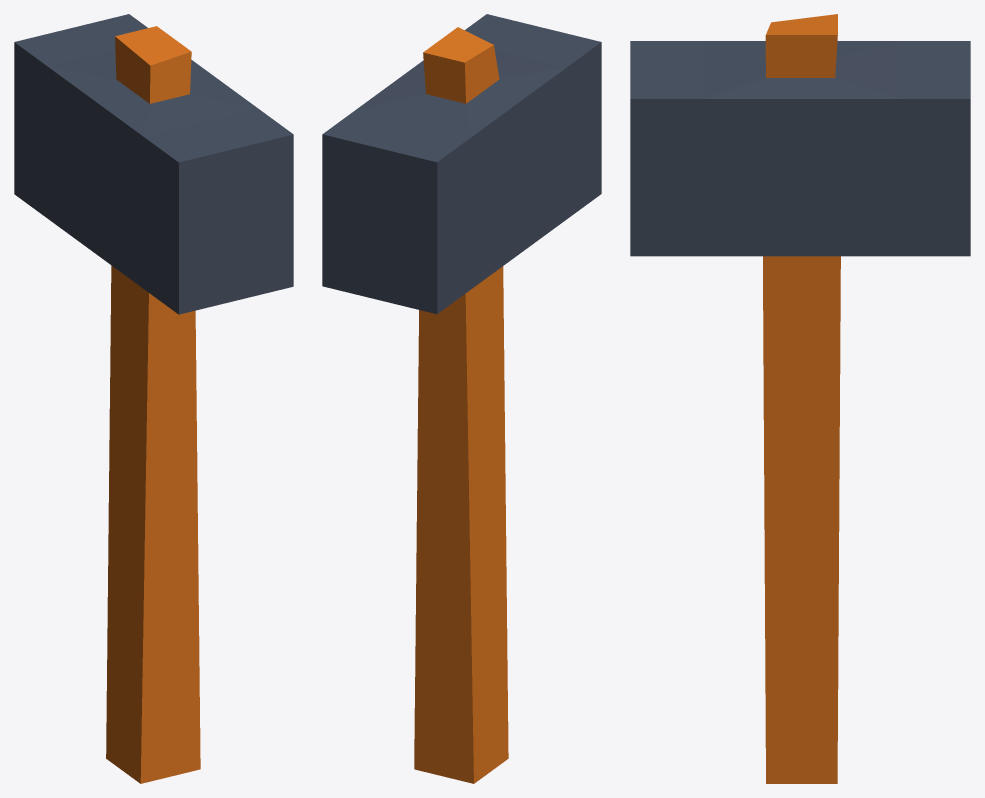
File: smith_hammer.fbx
3 renders of one model, left to right at view 1: azimuth 30°, elevation 25°; view 2: azimuth 150°, elevation 25°; view 3: azimuth 270°, elevation 25°, orthographic. The views are drawn at different scales.
Visible parts, largest first — view 1: Hummer; view 2: Hummer; view 3: Hummer.
Part boxes in pixels (bbox=[...]): Hummer: bbox=[14, 14, 293, 783]; Hummer: bbox=[322, 14, 601, 783]; Hummer: bbox=[630, 14, 970, 783].
Size of the model in its own units: 60.61 by 363 by 150.
